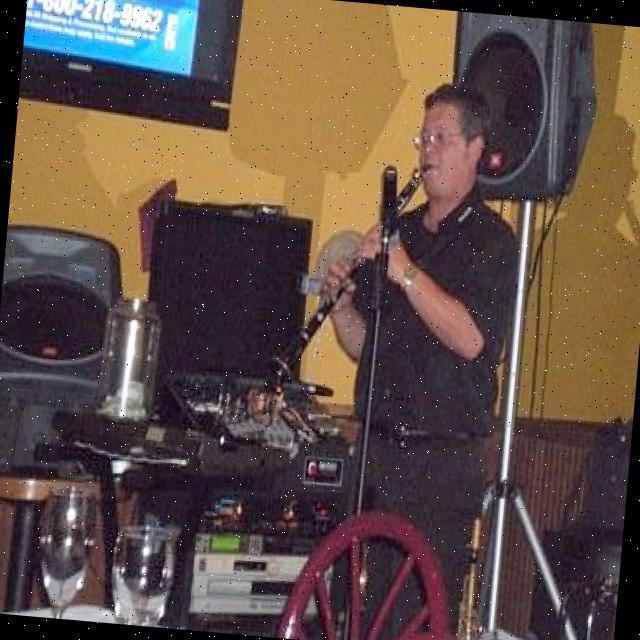clarinet: (264, 150, 433, 397)
